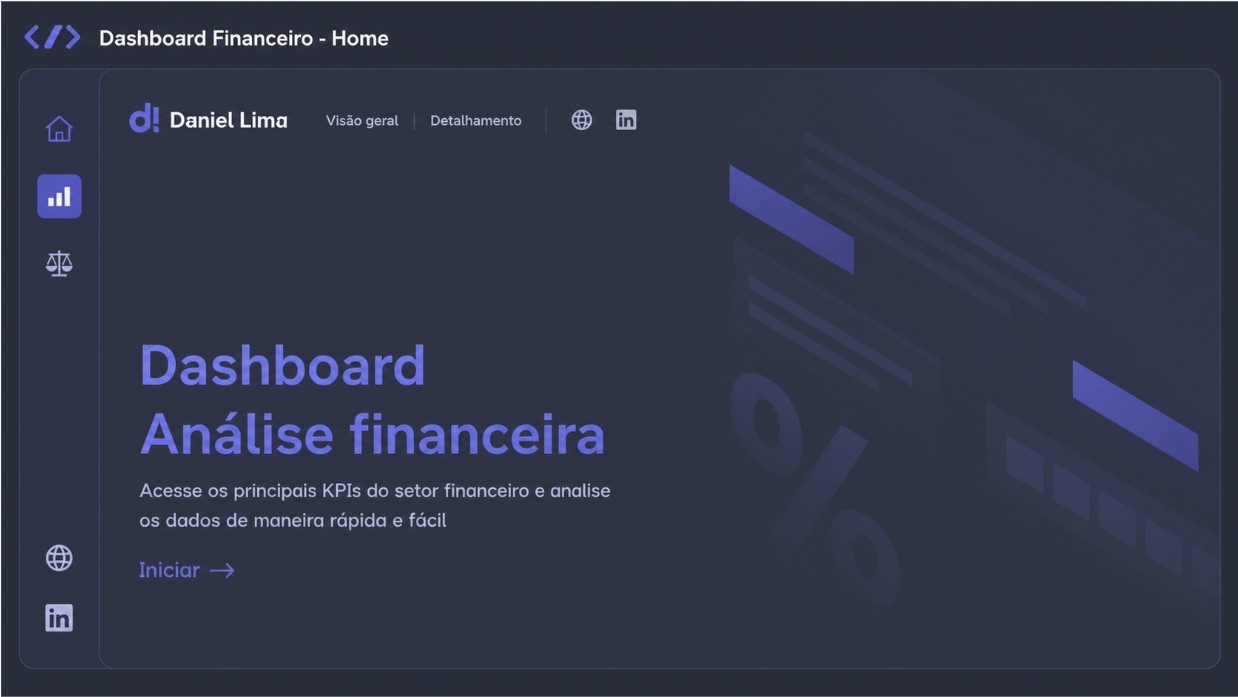

What the dashboard file says about the page in this screenshot:
{"tool":"powerbi","page":{"name":"Home","canvas":[1280,720],"ordinal":0},"visuals":[{"type":"actionButton","box":[1159.1,10.1,40.3,37.3],"z":0},{"type":"actionButton","box":[838.6,10.1,80.6,37.3],"z":1},{"type":"actionButton","box":[952.4,10.1,104.8,37.3],"z":2},{"type":"actionButton","box":[1106.6,14.1,41.3,29.2],"z":3}]}

Visuals, with their boxes on the page's 1280x720 design canvas (x1, y1, x2, y2). These are canvas units, not pixel positions in the 1238x697 screenshot, which may show the page scaled, cropped or inside an application window:
actionButton: rect(1159, 10, 1199, 47)
actionButton: rect(839, 10, 919, 47)
actionButton: rect(952, 10, 1057, 47)
actionButton: rect(1107, 14, 1148, 43)
